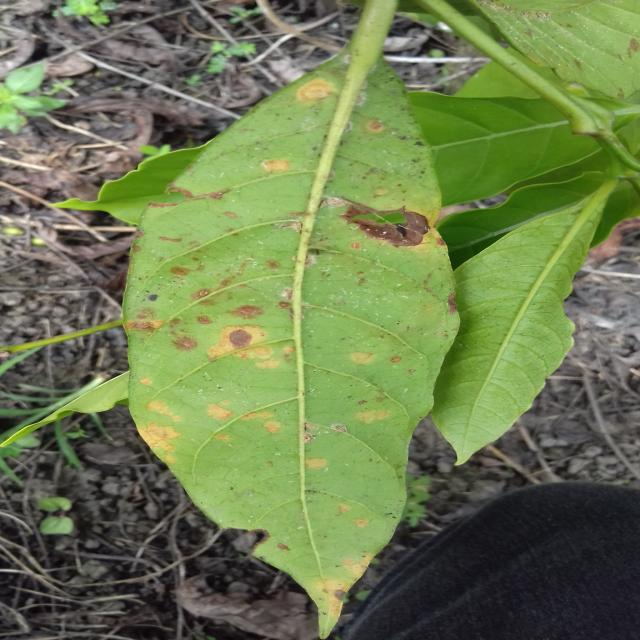Enfermedad-Roya: (95, 0, 459, 636)
